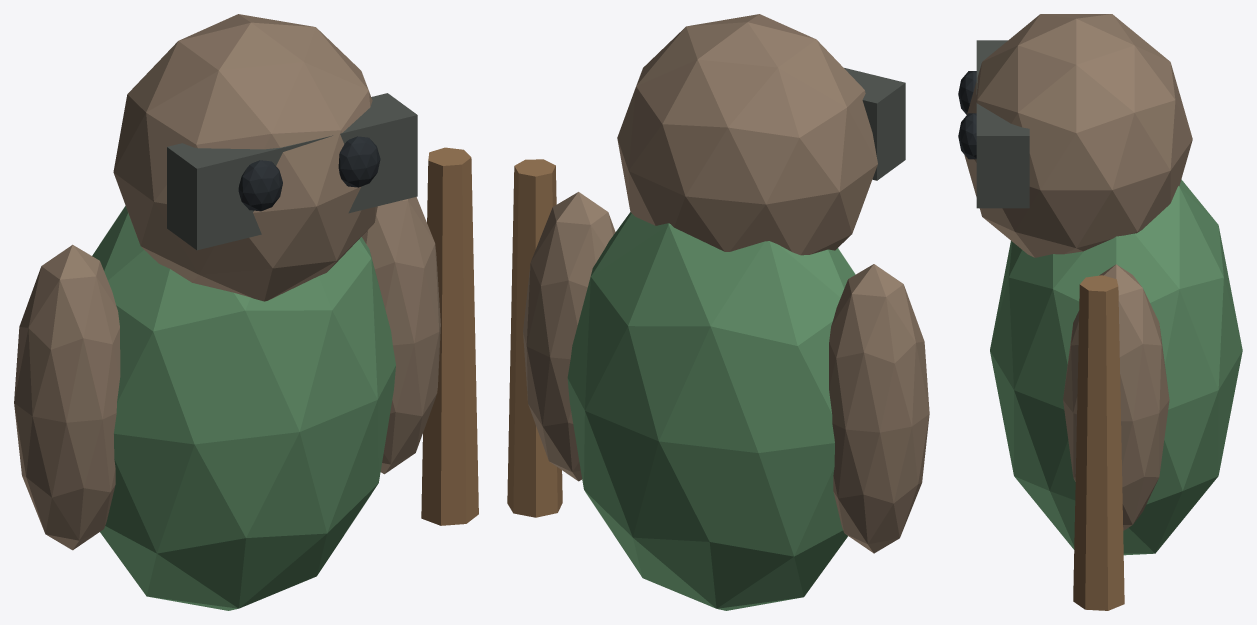
Rendered from windwood-rookie-bandit.glb.
3 renders of one model, left to right at view 1: azimuth 30°, elevation 25°; view 2: azimuth 150°, elevation 25°; view 3: azimuth 270°, elevation 25°, orthographic. The views are drawn at different scales.
Parts seen in each view (by area): view 1: body, head, arm, club, mask, arm.001, eye, eye.001; view 2: body, head, arm, arm.001, club, mask; view 3: body, head, club, arm.001, mask, eye.001, eye.
Part boxes in pixels (box(x1,y1,x2,y2)): body: box(92, 206, 395, 610); head: box(113, 14, 377, 301); arm: box(14, 244, 120, 550); club: box(421, 147, 478, 525); mask: box(167, 93, 417, 250); arm.001: box(361, 197, 440, 474); eye: box(238, 160, 282, 211); eye.001: box(338, 136, 380, 187); body: box(567, 212, 855, 610); head: box(617, 14, 877, 255); arm: box(829, 264, 929, 553); arm.001: box(523, 192, 615, 481); club: box(507, 159, 562, 517); mask: box(844, 68, 905, 180); body: box(990, 179, 1242, 555); head: box(964, 14, 1192, 257); club: box(1073, 275, 1124, 610); arm.001: box(1063, 264, 1169, 530); mask: box(976, 40, 1029, 208); eye.001: box(958, 113, 976, 159); eye: box(958, 71, 976, 114).
Bounding box in the file's own units: 1.36 × 1.78 × 0.855.
